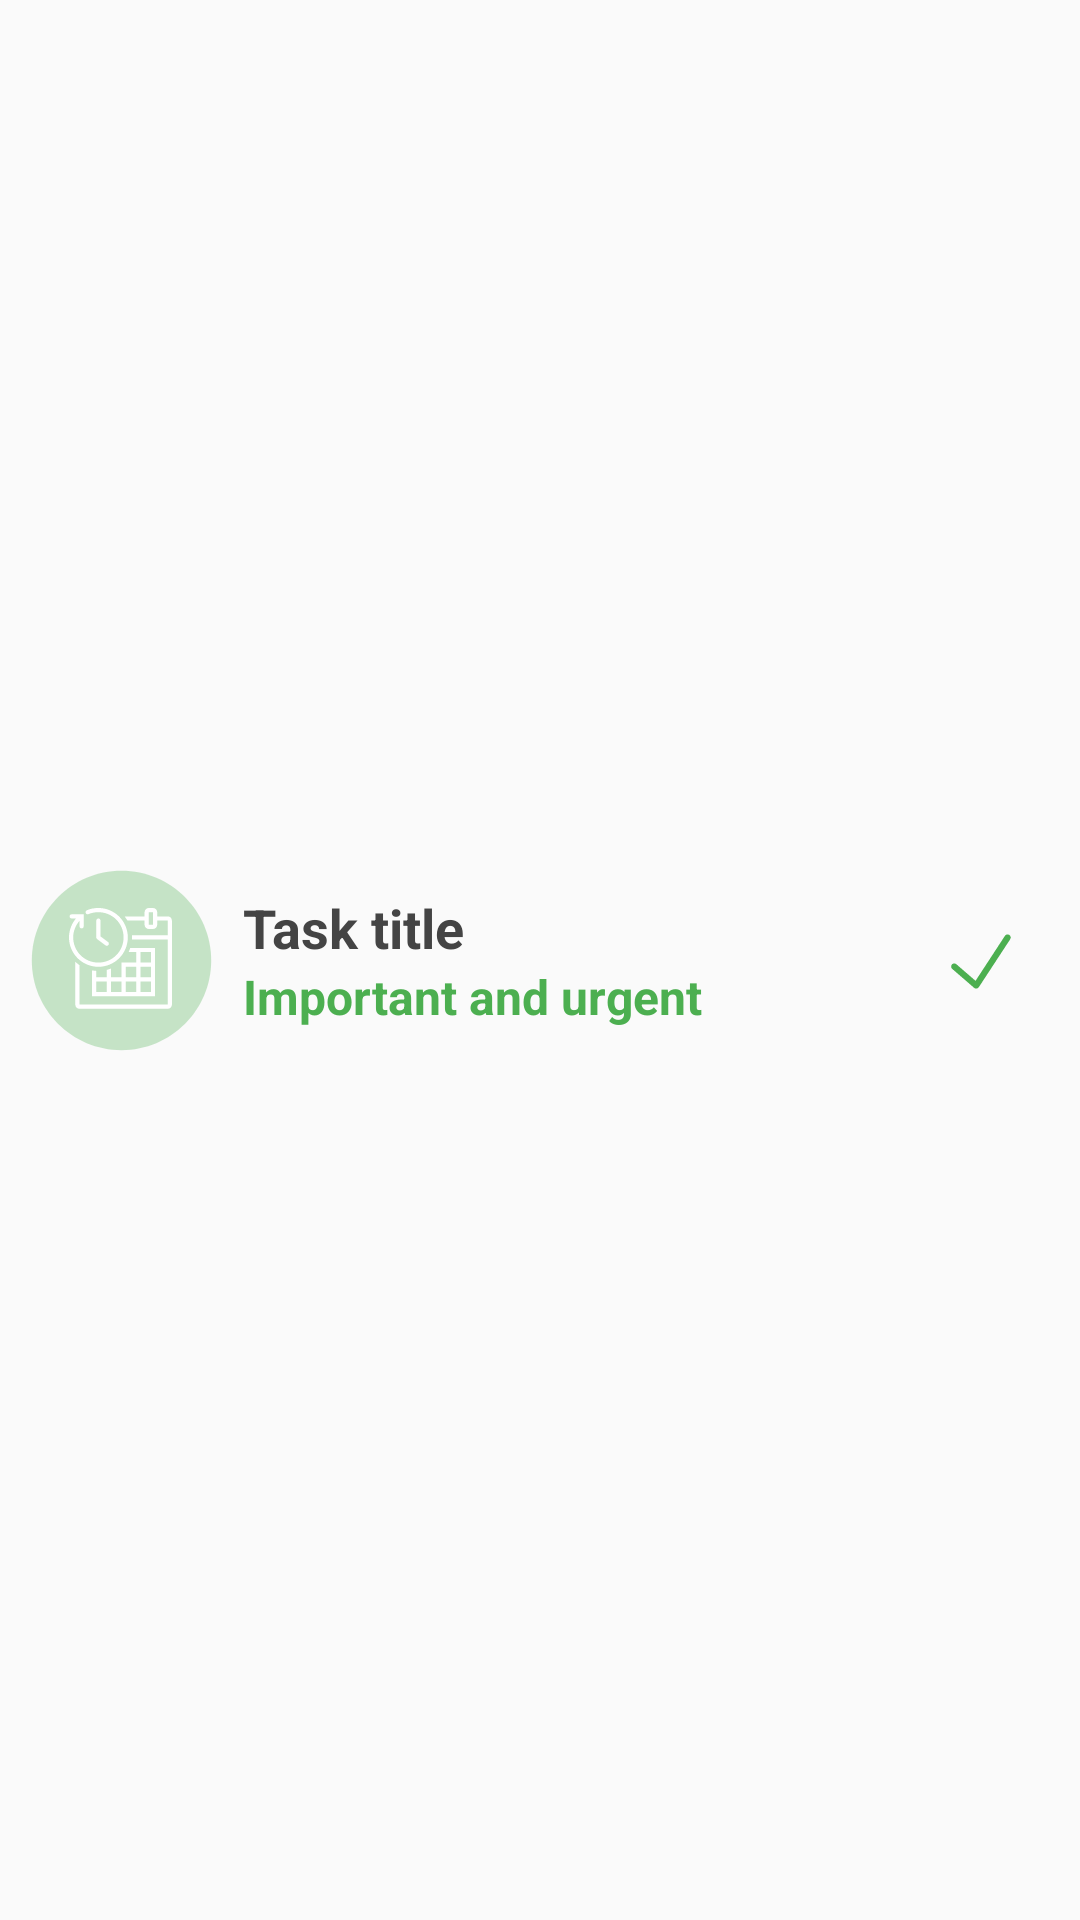

Where to tap for icons on this 1080*1920 app screen, as [x,y]:
checkmark: [981,961]
